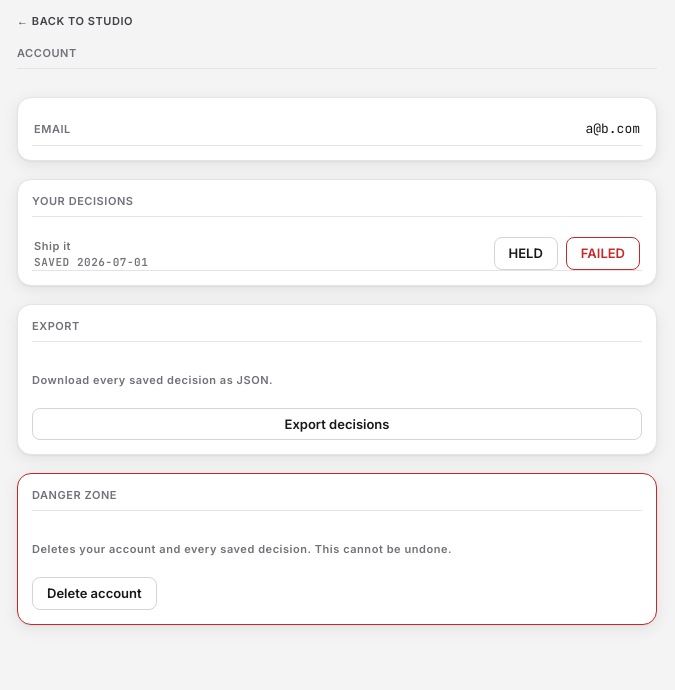
Scenario: AccountPage — Your decisions (outcome resolution) › resolveOutcome returning null (failure) shows an inline error and never throws
What coordinates should you click on to do the following:
click the button "FAILED"
I would click on:
 (603, 253)
Its box is [566,237,640,270].
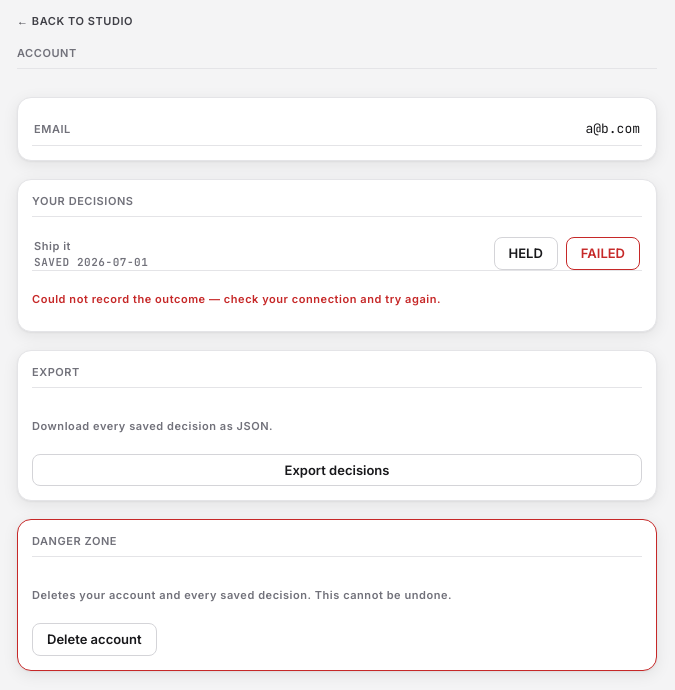
Check: the text with test id "outcome-error" is shown, box [32,292,441,306]
